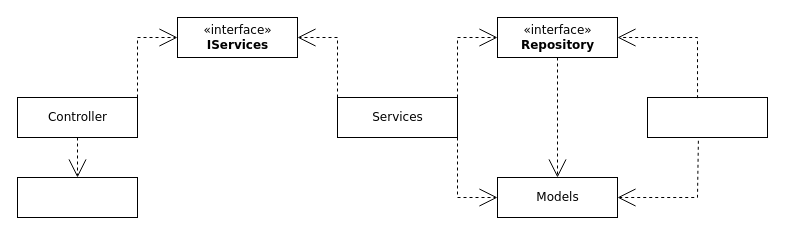
Image size: 785x235. Some labels were removed from this diagram. The shapes that lost their labels are listed below. From the top down, each one's centre as x and y in pixels, then its label:
At point (707, 117): "Repository".
At point (77, 197): "DTOs".
